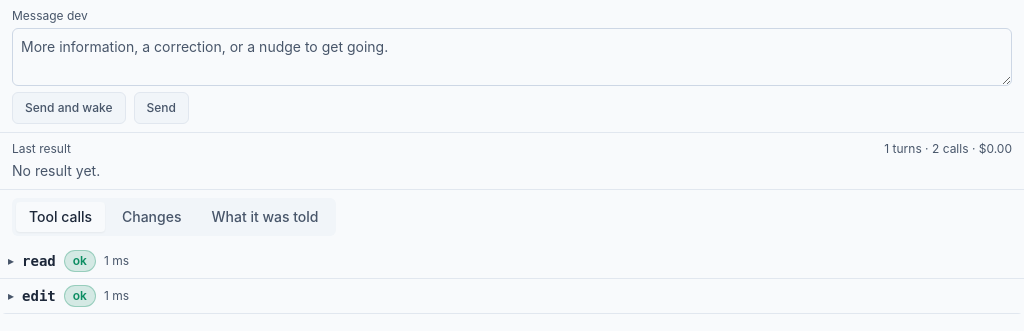
Test: AgentDetail Changes tab › says so when the role has no checkout yet
Press the mouse on the tab "Changes" at (152, 217), box x1=109 y1=202 x2=194 y2=232
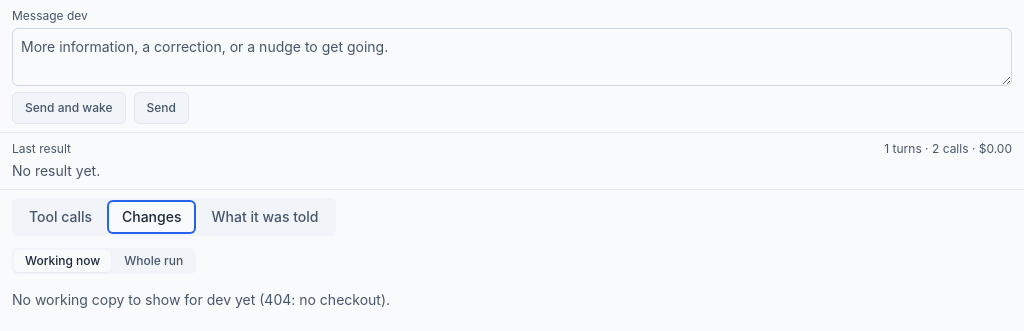
Result: the text "No working copy to show for dev yet (404: no checkout)." is shown at x1=12 y1=291 x2=390 y2=308
